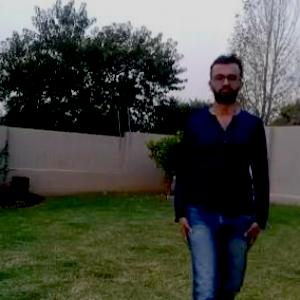follow: (181, 57, 264, 299)
